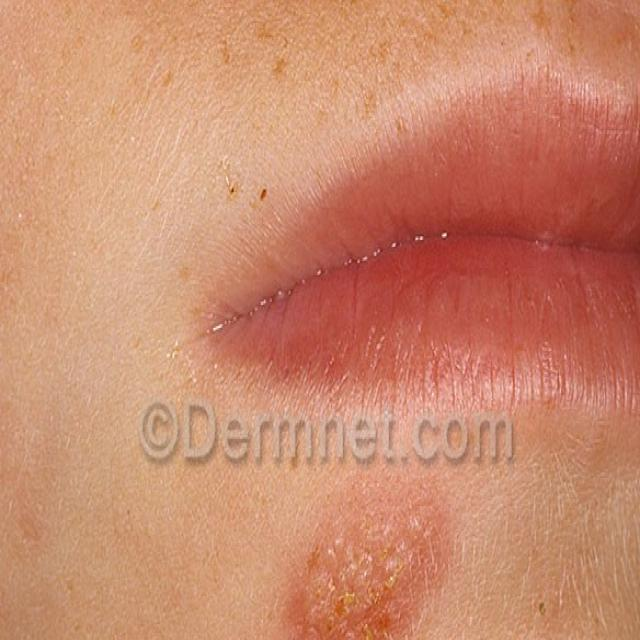Viral Infections: (271, 488, 469, 640)
